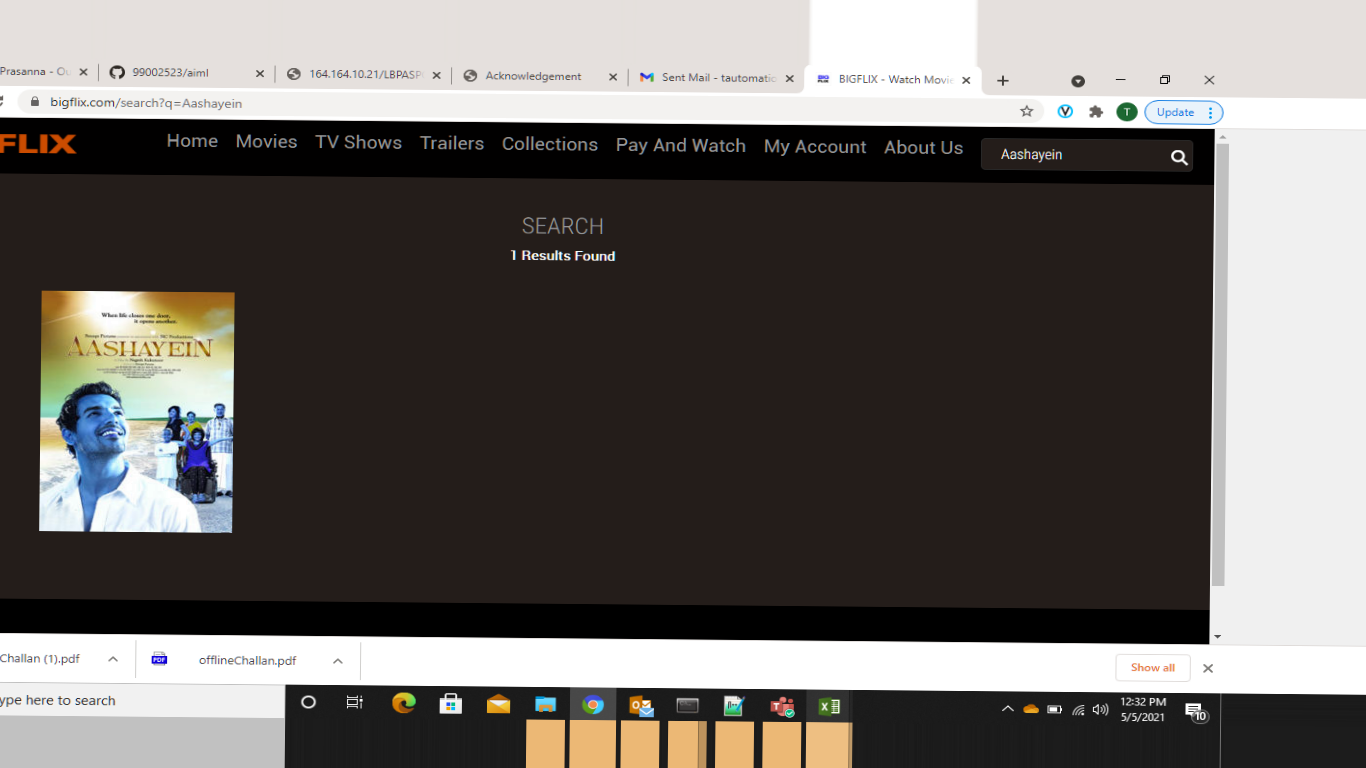resultsfound: (468, 203, 642, 300)
searchicon: (1157, 134, 1198, 179)
searchtextbox: (974, 129, 1196, 183)
